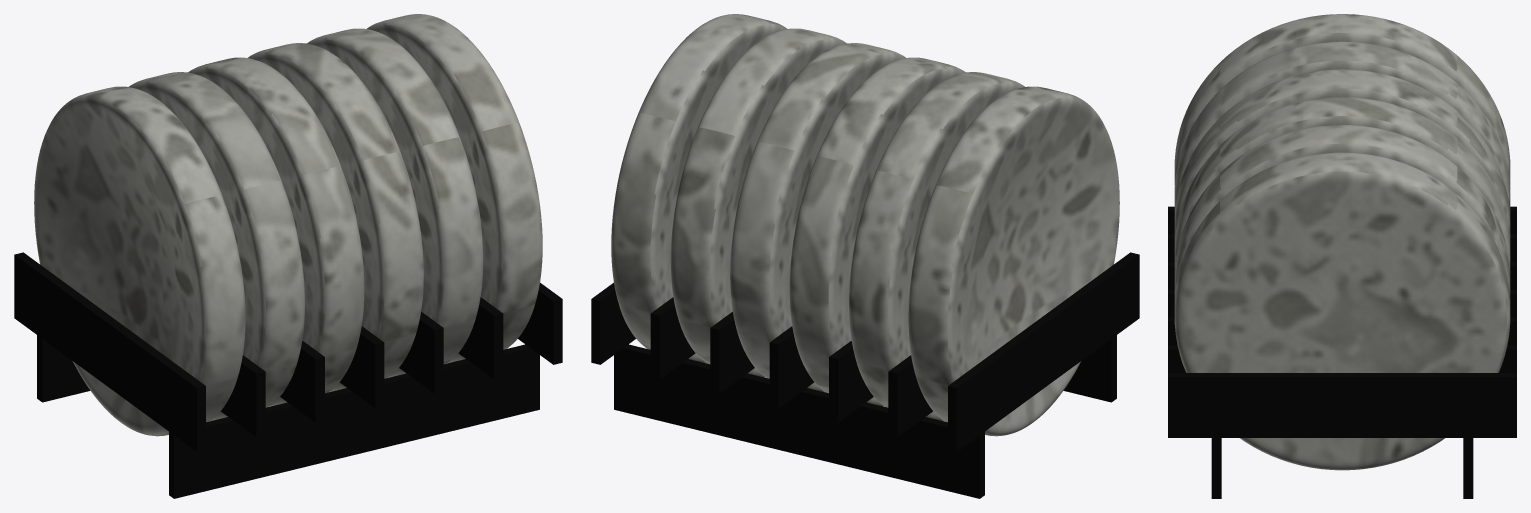
Rendered from posavasos-x6.glb.
3 renders of one model, left to right at view 1: azimuth 30°, elevation 25°; view 2: azimuth 150°, elevation 25°; view 3: azimuth 270°, elevation 25°, orthographic. The views are drawn at different scales.
Parts seen in each view (by area): view 1: Terrazo - posavasosx6, Hierro - posavasosx6; view 2: Terrazo - posavasosx6, Hierro - posavasosx6; view 3: Terrazo - posavasosx6, Hierro - posavasosx6.
Boxes of the visible parts, box(x1,y1,x2,y2) form: Terrazo - posavasosx6: box(34, 14, 542, 436); Hierro - posavasosx6: box(14, 252, 562, 498); Terrazo - posavasosx6: box(611, 14, 1119, 436); Hierro - posavasosx6: box(591, 252, 1139, 498); Terrazo - posavasosx6: box(1174, 14, 1510, 470); Hierro - posavasosx6: box(1168, 206, 1516, 498).
Size of the model in its own units: 0.1201 by 0.1063 by 0.1039.
2 materials, 1 textured.
